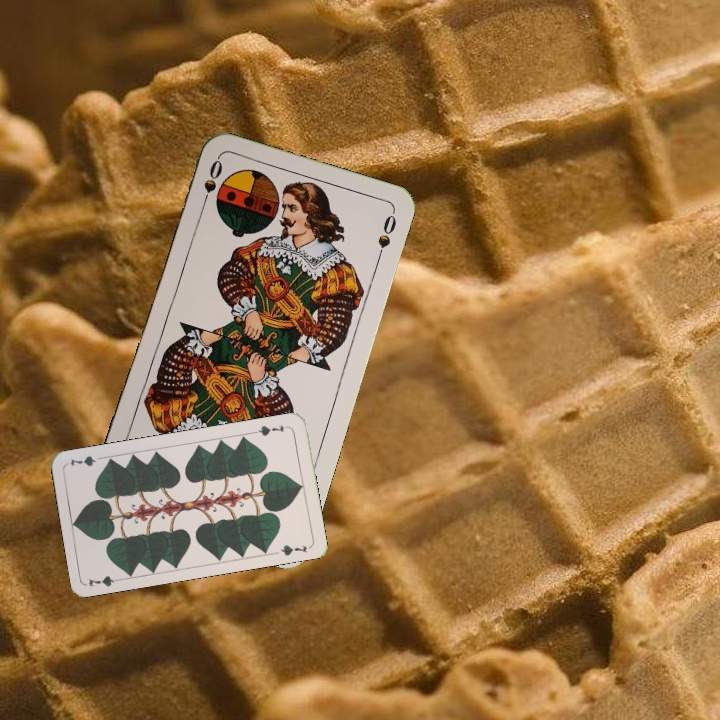G7: (84, 572, 126, 589), (251, 421, 287, 439)
SO: (197, 155, 225, 213)
